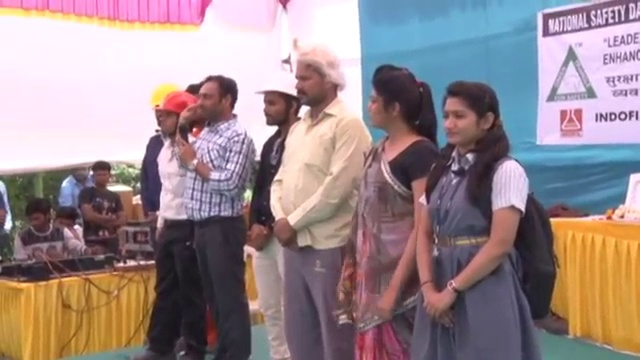helmet: (254, 71, 300, 100), (152, 91, 197, 118)
helmet_off: (434, 78, 505, 158), (365, 63, 429, 139), (286, 49, 350, 111), (186, 75, 239, 125), (21, 198, 52, 233), (53, 206, 83, 231), (90, 162, 109, 191), (72, 166, 90, 185)
helmet_on: (252, 69, 301, 135), (152, 92, 196, 141)
person: (415, 64, 557, 360), (269, 46, 372, 360), (341, 60, 445, 360), (177, 75, 262, 352), (136, 89, 206, 360), (250, 62, 300, 360), (14, 196, 104, 261), (76, 163, 125, 248), (58, 166, 94, 210)
